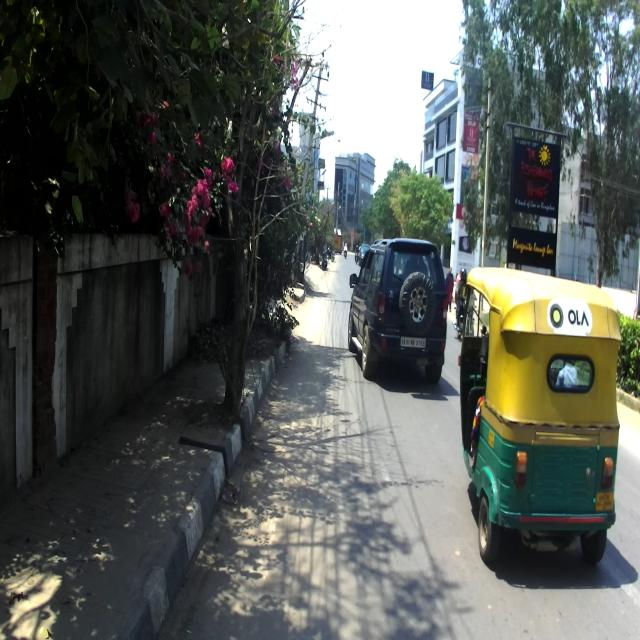auto ahead at: (460, 266, 622, 562)
car ahead at: (351, 234, 447, 389)
tree ahead at: (214, 178, 258, 402)
